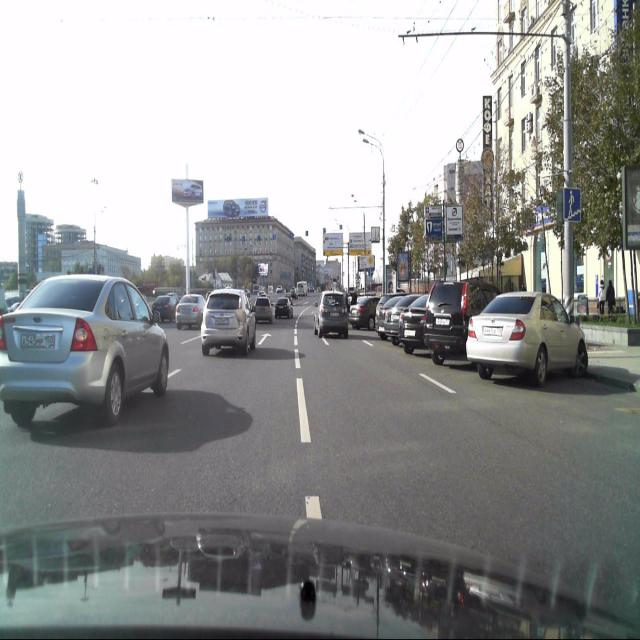road sign: (563, 188, 580, 223)
